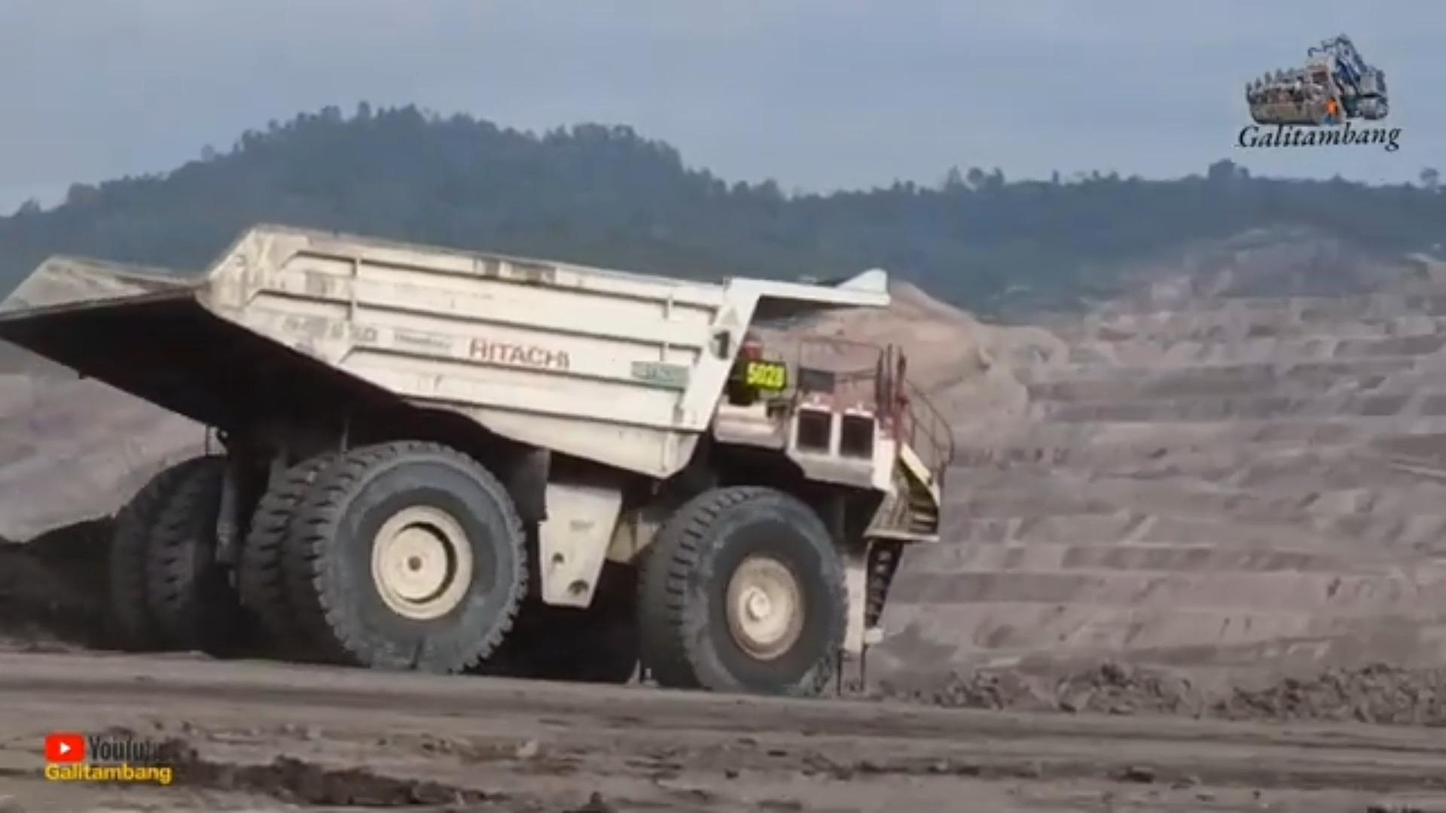HD-Truck: (0, 224, 953, 695)
